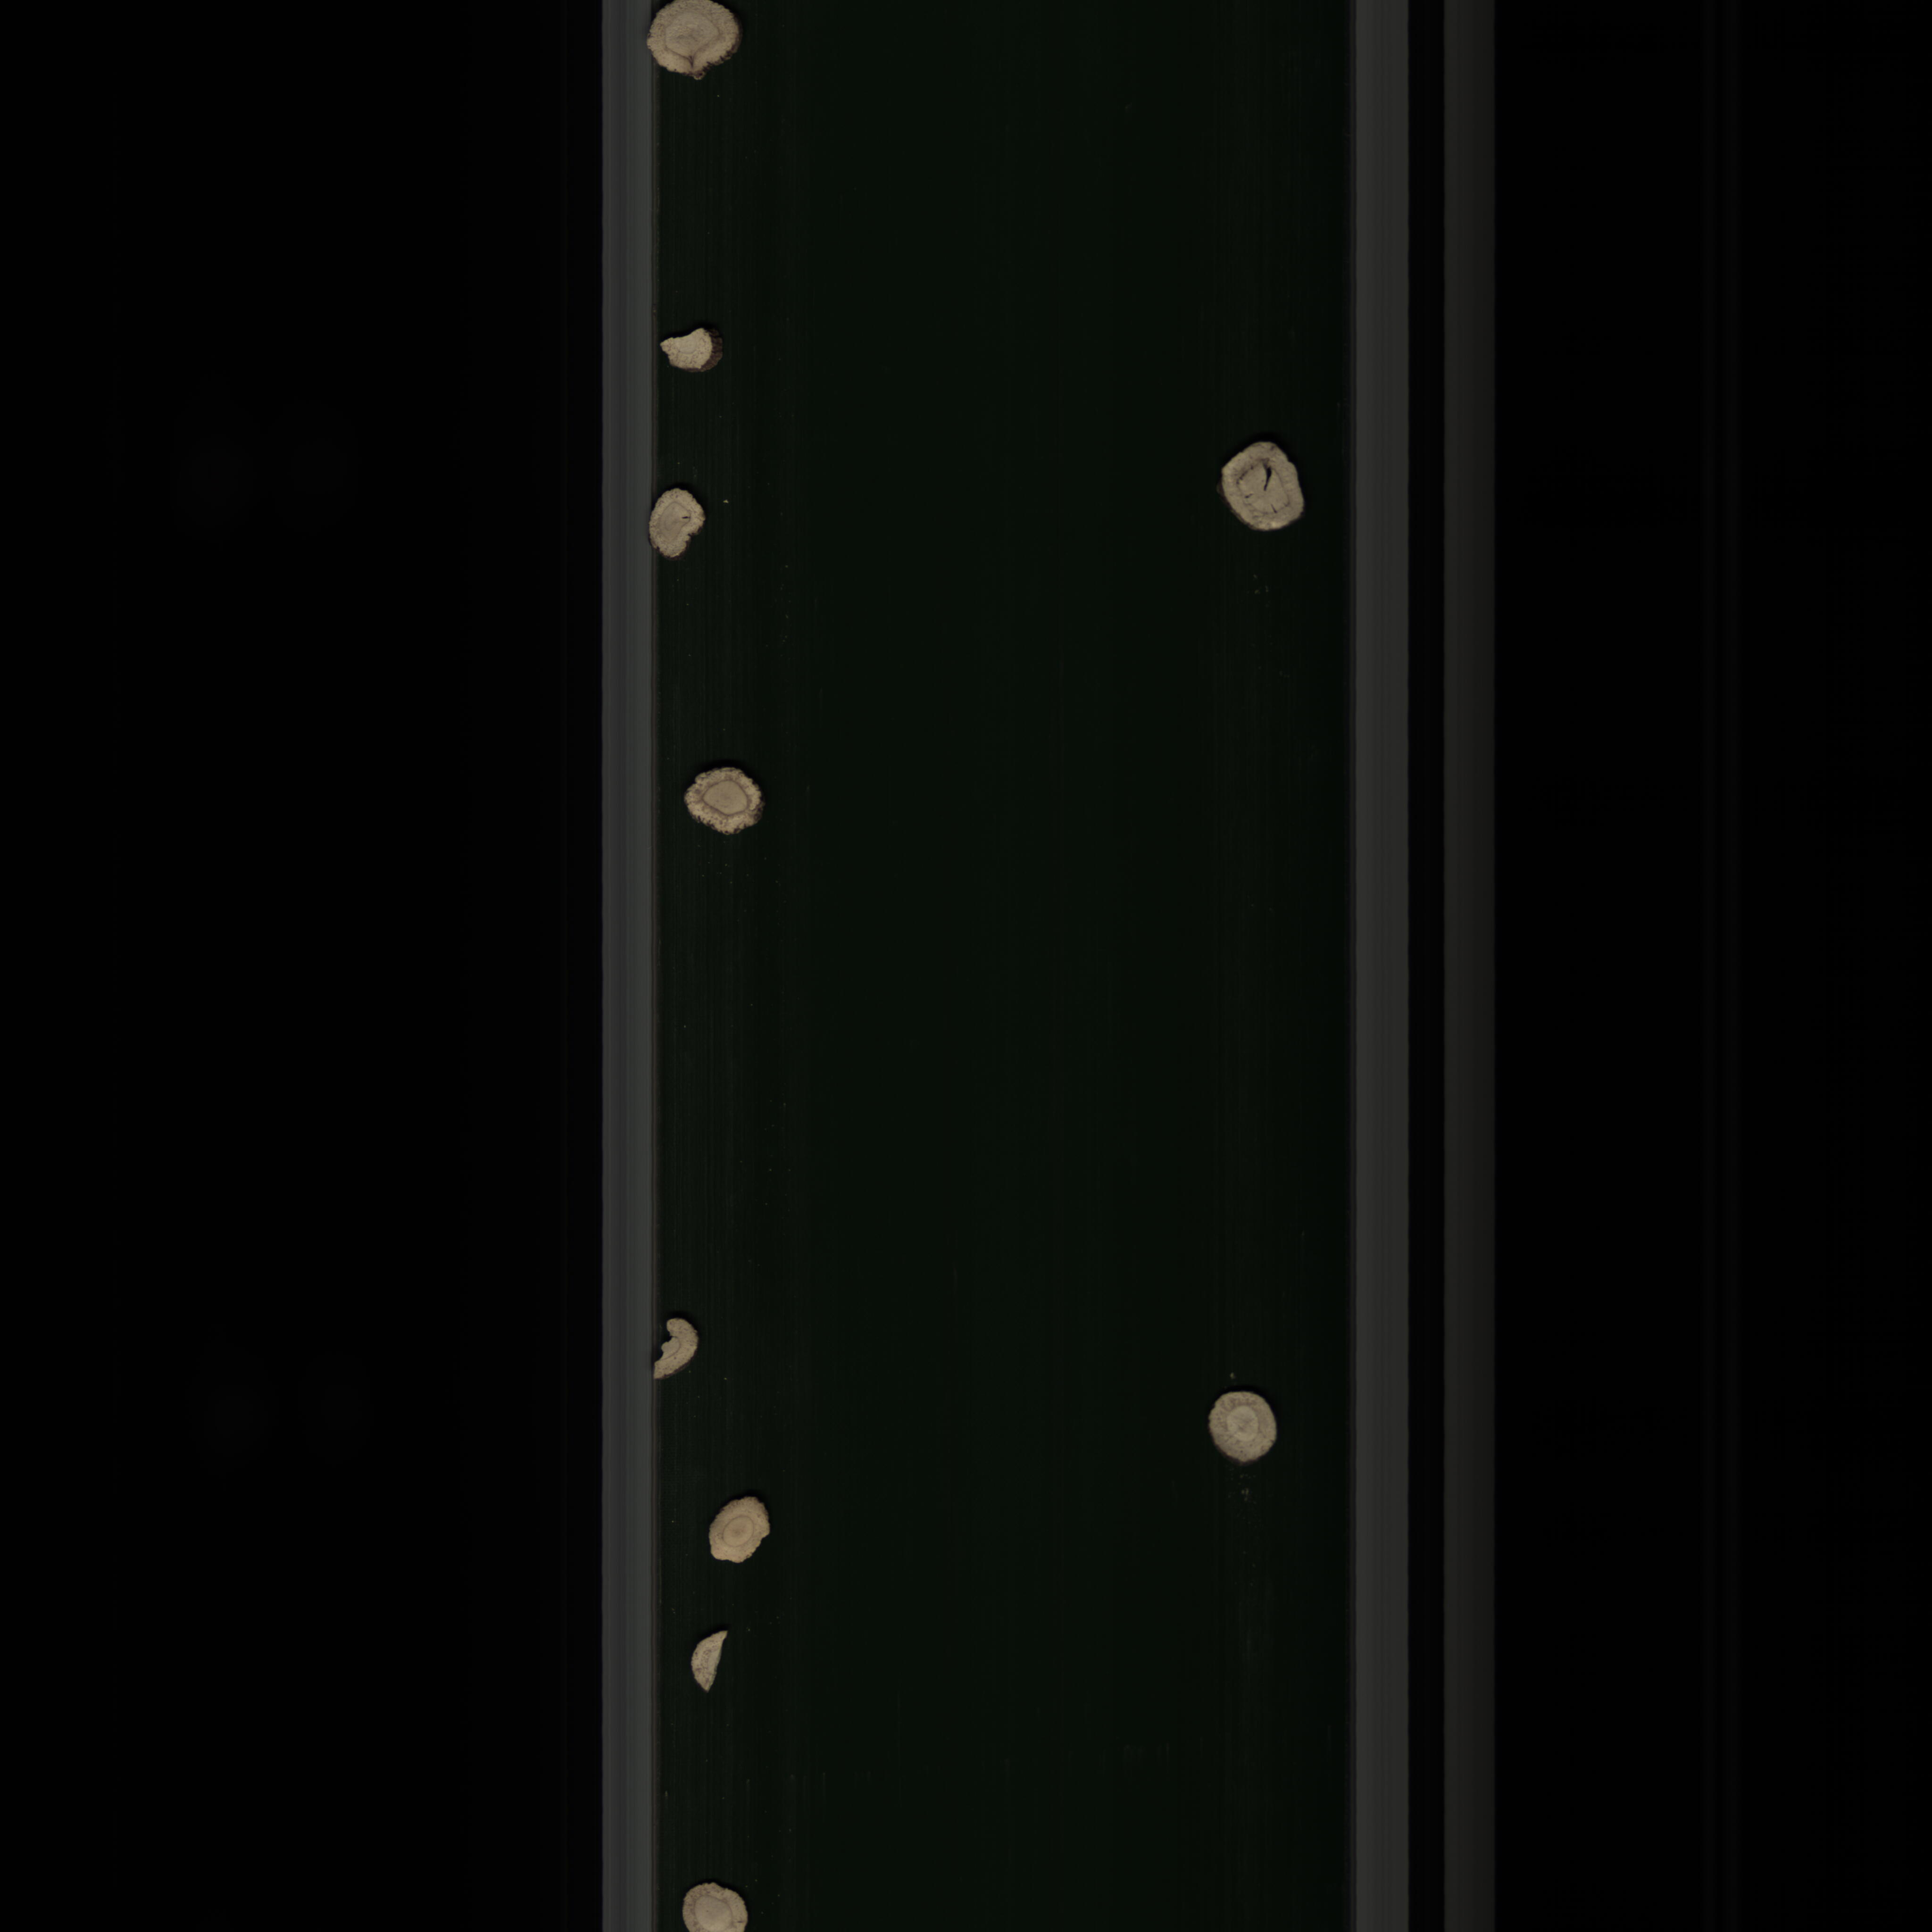debris: (658, 322, 729, 384), (651, 1309, 699, 1382), (686, 1626, 732, 1700)
hole: (1217, 435, 1316, 548)
moldy: (676, 763, 770, 842)
